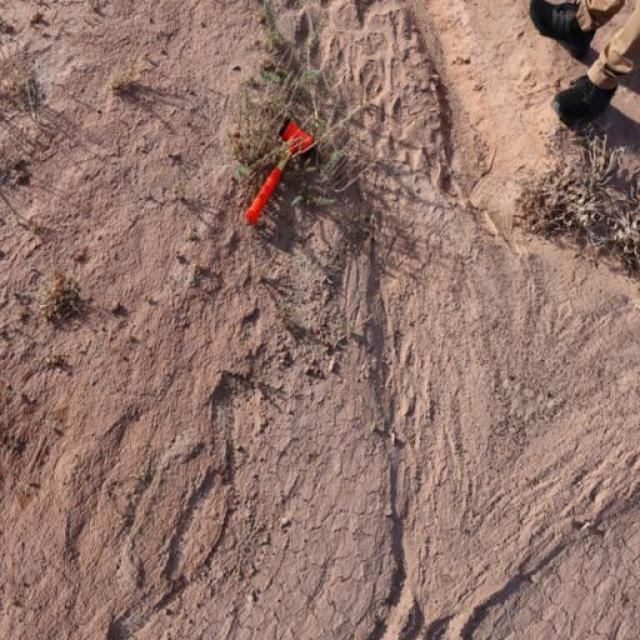mallet: (242, 116, 318, 225)
